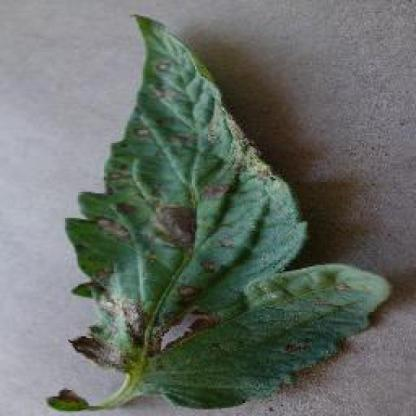Tomato_Blight: (49, 16, 392, 408)
